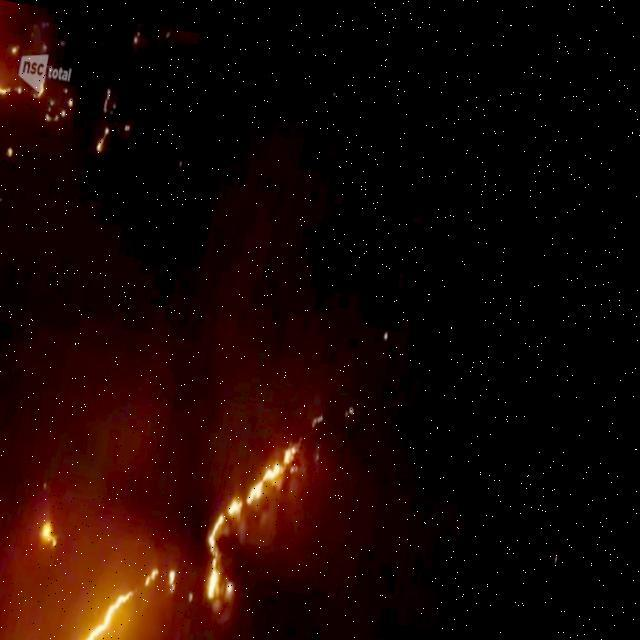Fire: (217, 426, 310, 600), (97, 578, 155, 639), (58, 515, 79, 543), (0, 69, 16, 95), (166, 554, 180, 579), (184, 561, 198, 582)
